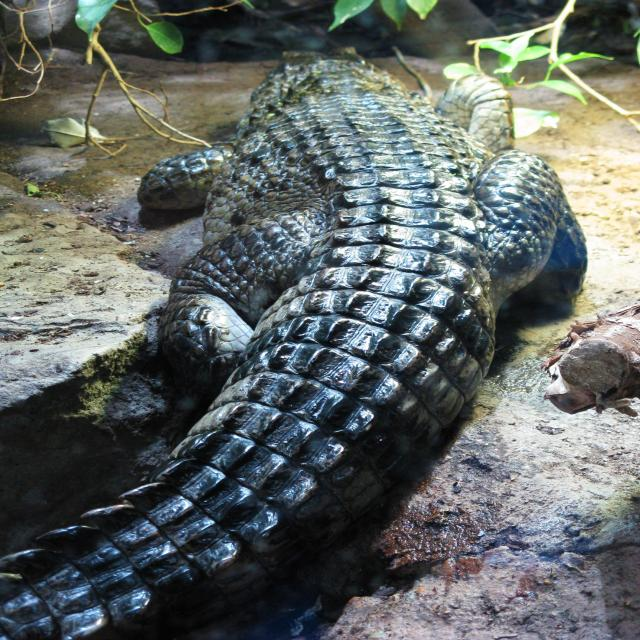crocodile: (0, 46, 573, 640)
